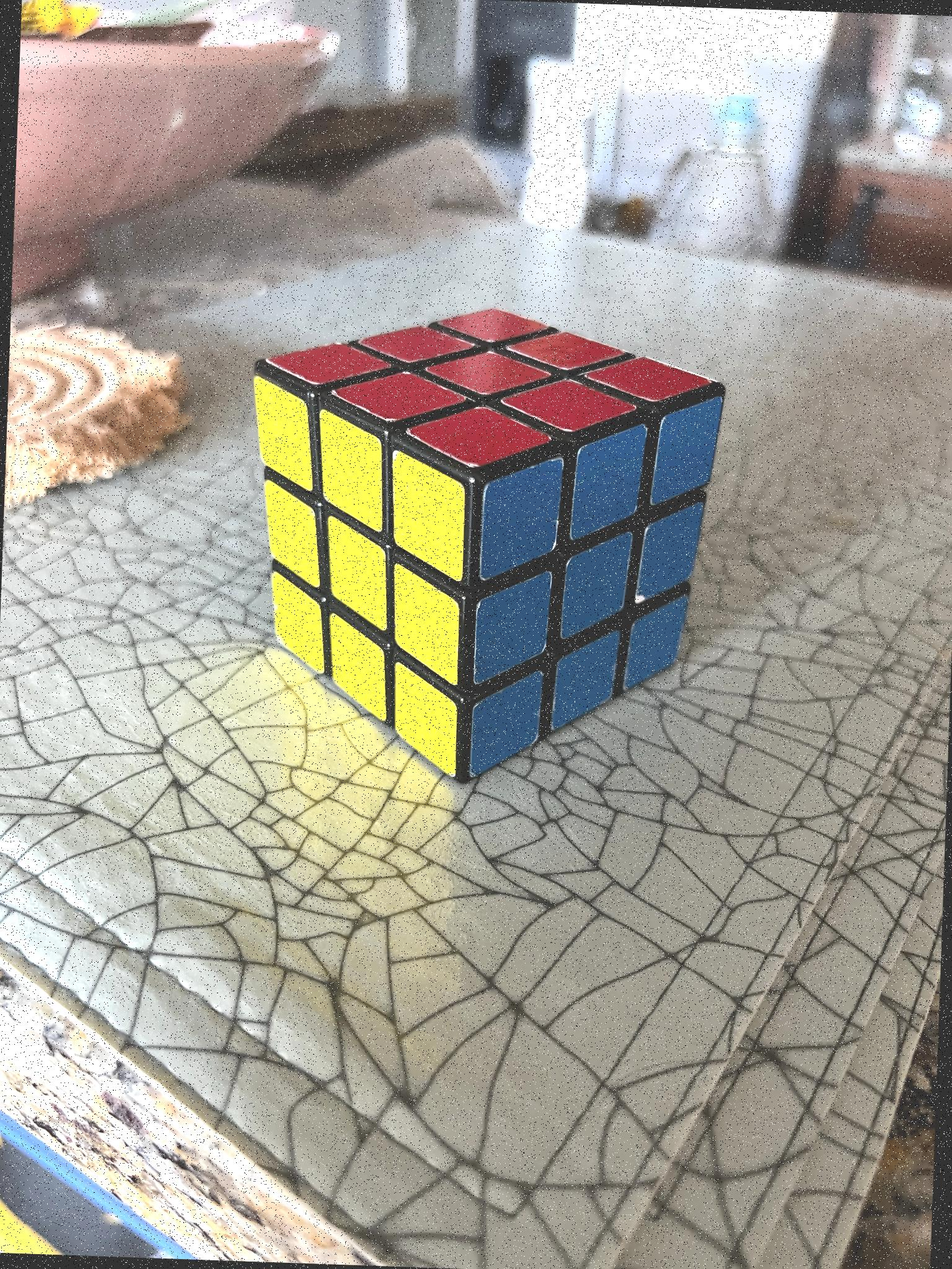rubiks_cube: (254, 308, 722, 776)
